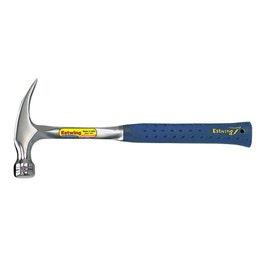Hammers: (5, 73, 262, 183)
